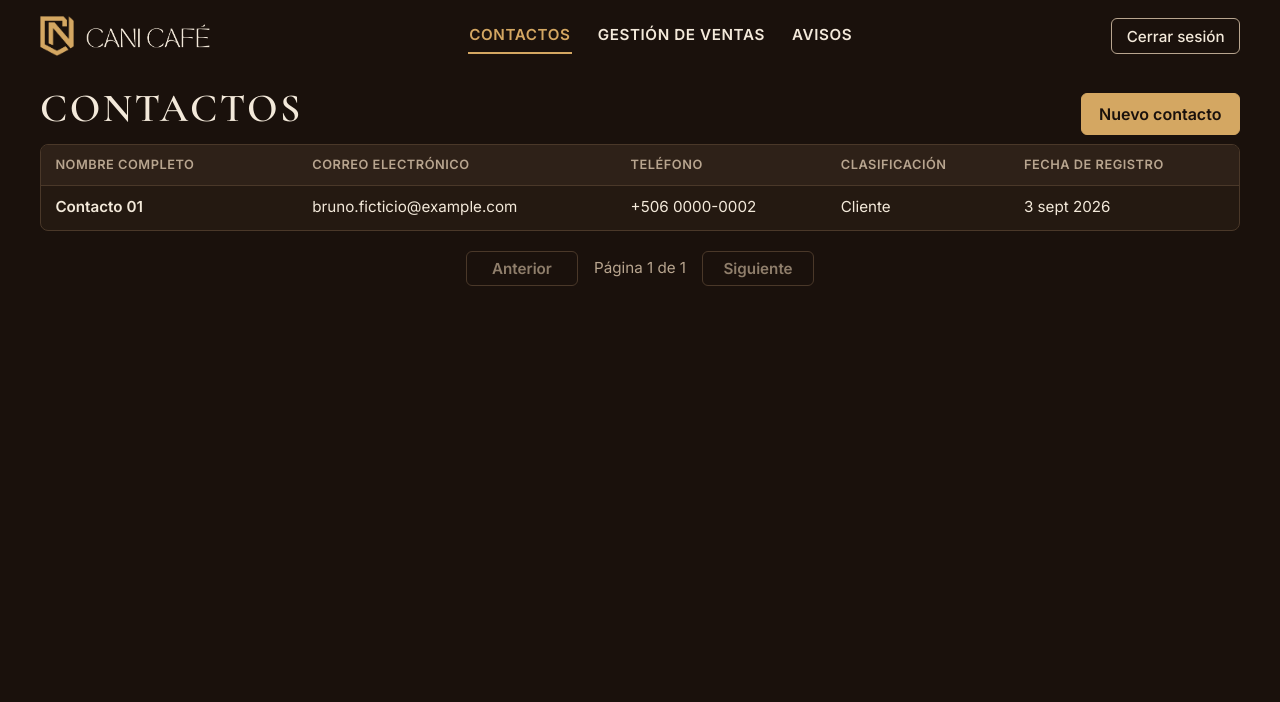
Test: HU-207 Consultar la ficha de un contacto › criterio 2: conserva la búsqueda y los filtros que estén en la URL de la lista
Check: the table is shown, box [41,145,1239,230]
Step 1. Click the link "Contacto 01" → (99, 207), box [55,197,143,216]
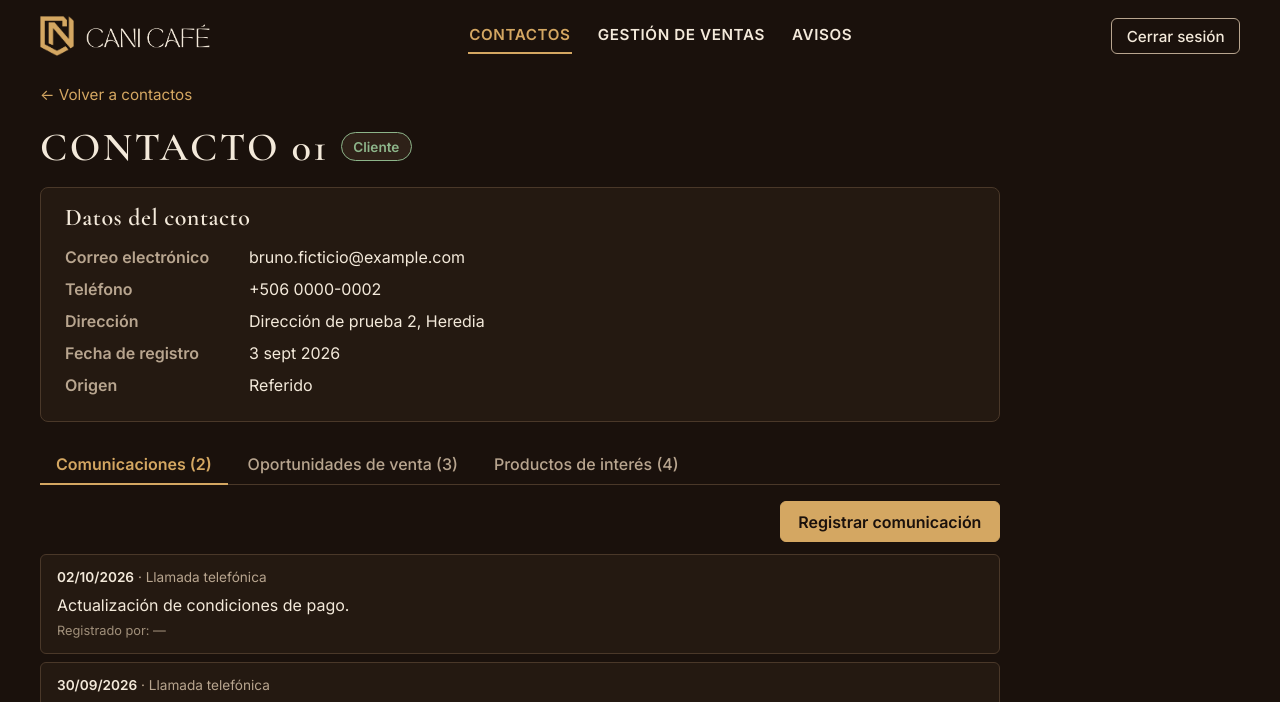
Check: the heading "Contacto 01" is shown, box [40,123,329,171]
